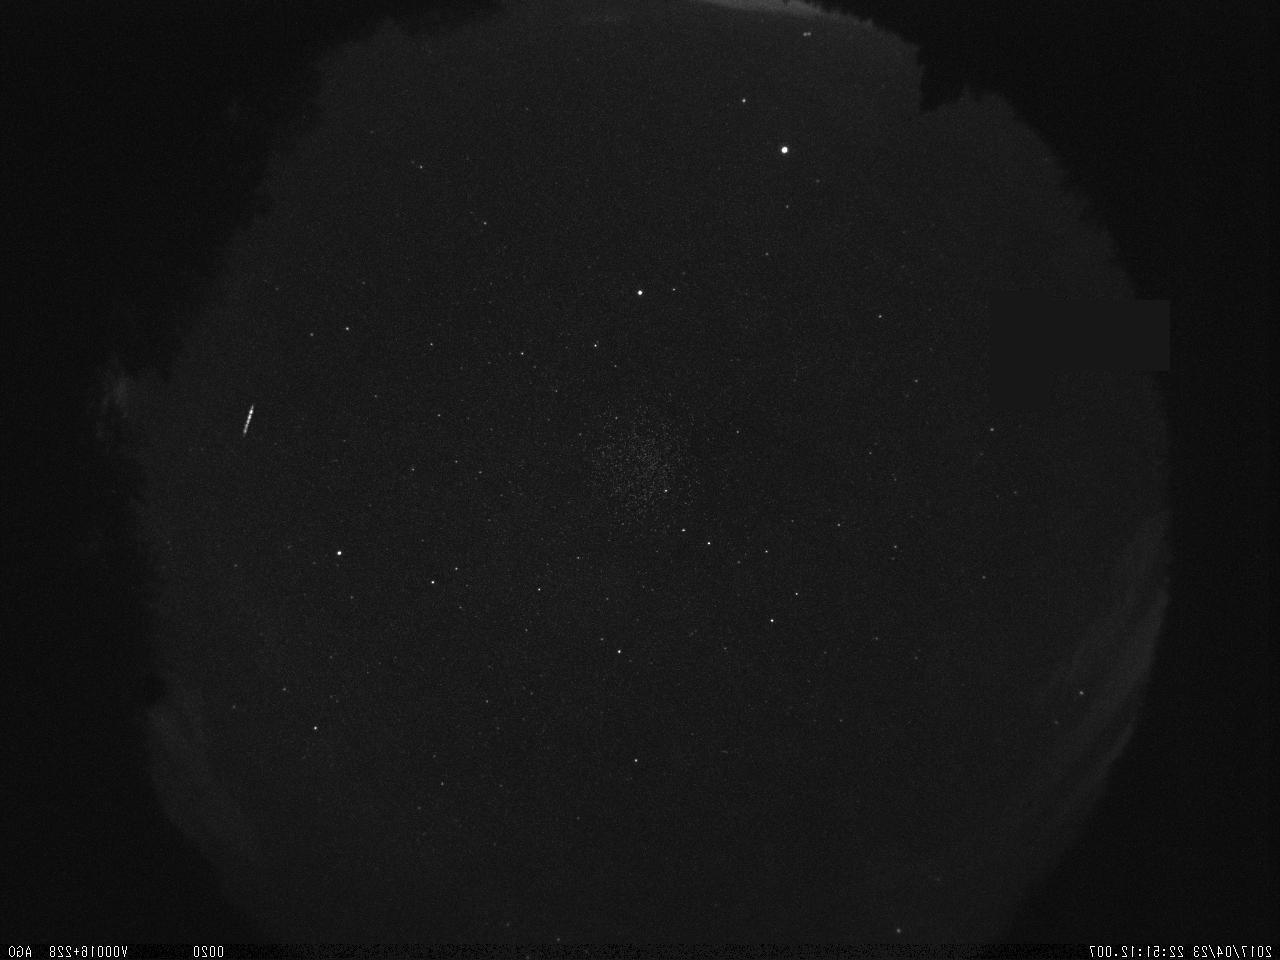meteor: (214, 394, 270, 451)
